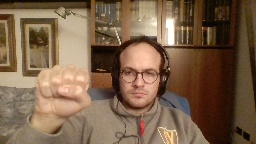Pugno: (29, 62, 94, 119)
